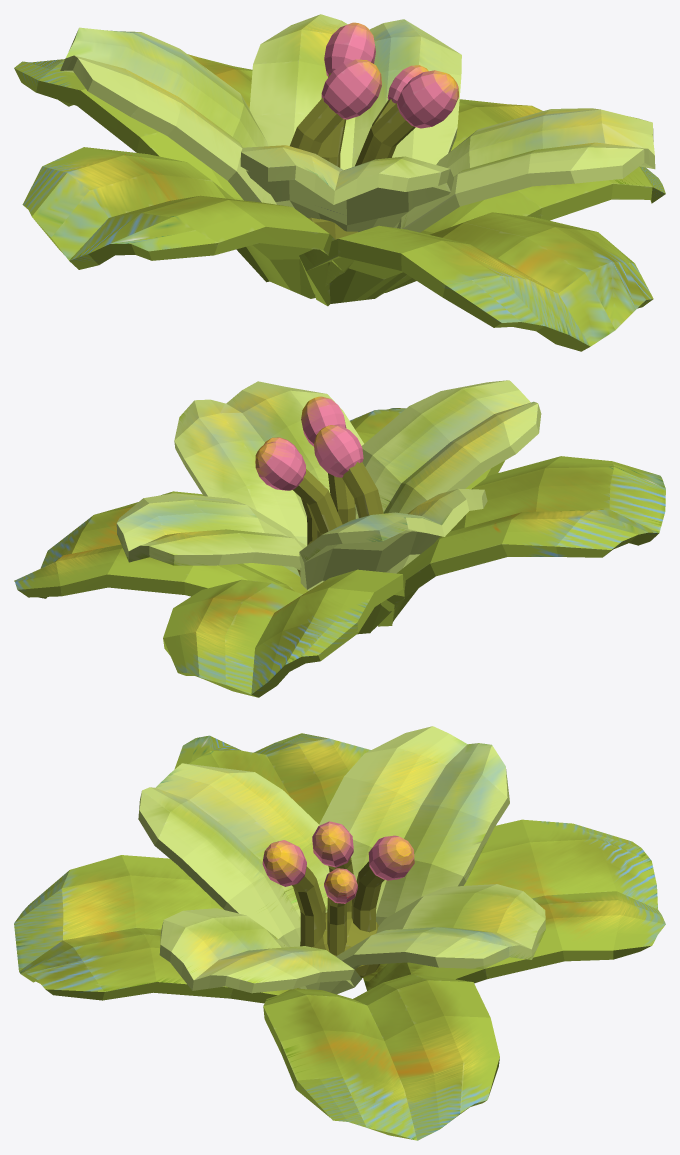
Rendered from MATA 02.fbx.
The picture shows the model from 3 angles, top to bottom: view 1: azimuth 30°, elevation 25°; view 2: azimuth 150°, elevation 25°; view 3: azimuth 270°, elevation 25°; orthographic projection. The views are drawn at different scales.
Parts seen in each view (by area): view 1: Cube.004, Cube.005, Cube.011, Cube.003; view 2: Cube.004, Cube.005, Cube.011, Cube.003; view 3: Cube.004, Cube.005, Cube.011, Cube.003, Cube.010.
Part boxes in pixels (<box>): Cube.004: <box>14,54,665,351</box>; Cube.005: <box>60,14,655,232</box>; Cube.011: <box>321,22,458,128</box>; Cube.003: <box>290,73,415,167</box>; Cube.004: <box>14,408,665,697</box>; Cube.005: <box>116,380,541,590</box>; Cube.011: <box>255,396,363,490</box>; Cube.003: <box>293,462,383,544</box>; Cube.004: <box>14,733,665,1140</box>; Cube.005: <box>138,726,545,994</box>; Cube.011: <box>262,821,414,903</box>; Cube.003: <box>292,857,384,955</box>; Cube.010: <box>300,911,380,977</box>.
Bounding box in the file's own units: 343 × 124 × 352.
